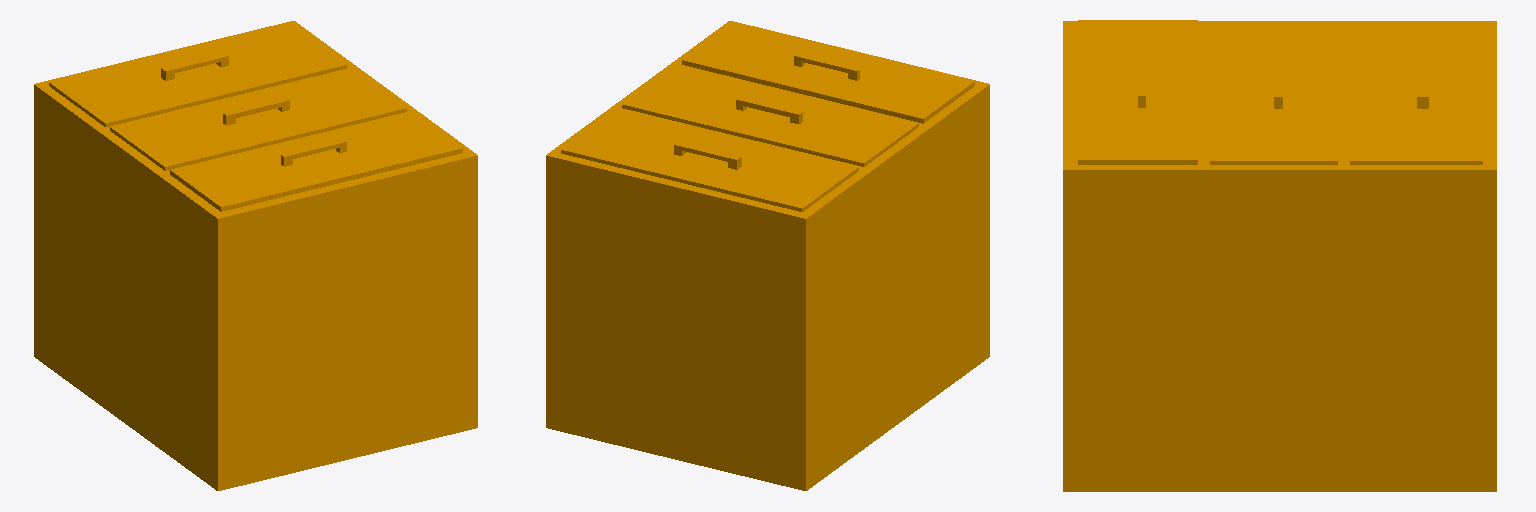
robot.urdf — nightstand:
<?xml version="1.0" ?>
<robot name="nightstand">

  <material name="gray">
    <color rgba="0.5, 0.5, 0.5, 1"/>
  </material>

  <link name="root">
    <inertial>
      <mass value="0"/>
      <origin rpy="0 0 0" xyz="0 0 0"/>
      <inertia ixx="0.01" ixy="0.0" ixz="0.0" iyy="0.01" iyz="0.0" izz="0.01"/>
    </inertial>
    <visual>
      <origin rpy="0 0 0" xyz="0 0 0"/>
      <geometry>
        <mesh filename="nightstand.obj" scale="0.275 0.275 0.275"/>
      </geometry>
      <material name="gray"/>
    </visual>
    <collision>
      <origin rpy="0 0 0" xyz="0 0 0"/>
      <geometry>
        <mesh filename="nightstand.obj" scale="0.275 0.275 0.275"/>
      </geometry>
    </collision>
  </link>
</robot>

--- Render facts (derived) ---
3 views of the same robot in one strip: view 1: azimuth 30°, elevation 25°; view 2: azimuth 150°, elevation 25°; view 3: azimuth 270°, elevation 25° (orthographic).
Model nightstand with 1 links and 0 joints (none), rooted at root, posed every joint at zero.
Visible links, largest first — view 1: root; view 2: root; view 3: root.
Boxes of the visible links, left/top/right/bottom form: root: left=34, top=21, right=477, bottom=490; root: left=546, top=21, right=989, bottom=490; root: left=1063, top=20, right=1496, bottom=491.
Bounding box of the posed robot: 0.55 × 0.6739 × 0.5794 m (x, y, z).
Meshes: 1 distinct files referenced, 1 mesh visuals loaded (1 OBJ).